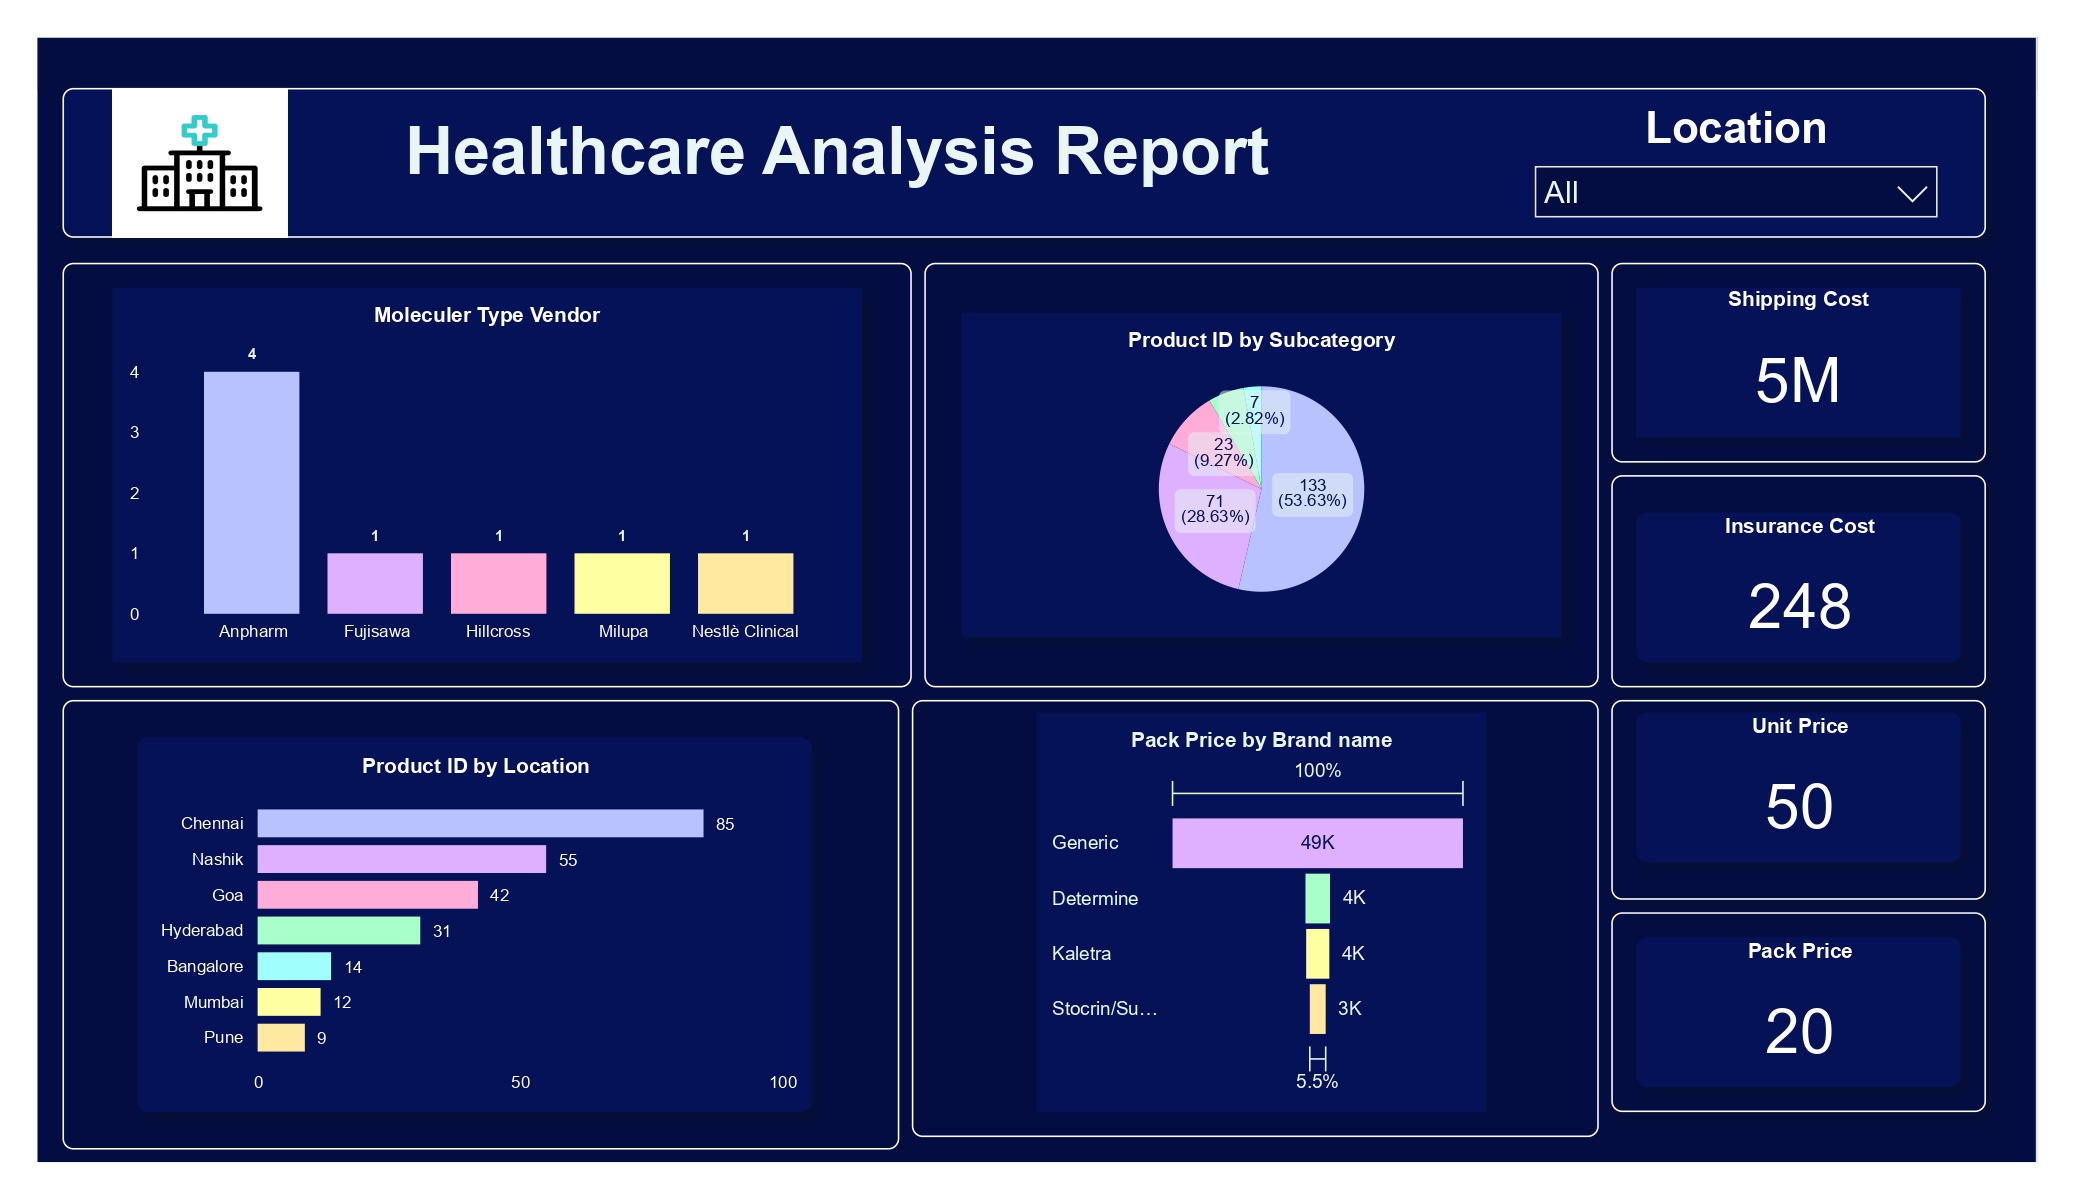

Layout of this report page (visuals, bound fields, positions):
{"tool":"powerbi","page":{"name":"Page 1","canvas":[1280,720],"ordinal":0},"visuals":[{"type":"shape","box":[16,32,1232,96],"z":0},{"type":"shape","box":[16,144,544,272],"z":1000},{"type":"shape","box":[16,424,536,288],"z":2000},{"type":"shape","box":[568,144,432,272],"z":3000},{"type":"shape","box":[560,424,440,280],"z":4000},{"type":"shape","box":[1008,144,240,128],"z":5000},{"type":"shape","box":[1008,280,240,136],"z":6000},{"type":"shape","box":[1008,560,240,128],"z":7000},{"type":"shape","box":[1008,424,240,128],"z":8000},{"type":"slicer","title":"Location","fields":{"Values":["Pharma_details.Manufacturer Location"]},"box":[944,32,288,96],"z":9000},{"type":"clusteredColumnChart","title":"Moleculer Type Vendor","fields":{"Category":["Pharma_details.Vendor"],"Y":["CountNonNull(Pharma_details.Molecule/Test Type)"]},"box":[48,160,480,240],"z":10000},{"type":"pieChart","title":"Product ID by Subcategory","fields":{"Category":["Pharma_details.Subcategory"],"Y":["CountNonNull(Pharma_details.Product ID)"]},"box":[592,176,384,208],"z":11000},{"type":"card","title":"Shipping Cost","fields":{"Values":["Sum(Pharma_details.Shipping Cost (USD))"]},"box":[1024,160,208,96],"z":12000},{"type":"card","title":"Insurance Cost","fields":{"Values":["CountNonNull(Pharma_details.Insurance Cost (USD))"]},"box":[1024,304,208,96],"z":13000},{"type":"card","title":"Unit Price ","fields":{"Values":["Count(Pharma_details.Unit Price)"]},"box":[1024,432,208,96],"z":14000},{"type":"card","title":"Pack Price","fields":{"Values":["Count(Pharma_details.Pack Unit)"]},"box":[1024,576,208,96],"z":15000},{"type":"barChart","title":"Product ID by Location","fields":{"Category":["Pharma_details.Manufacturer Location"],"Y":["CountNonNull(Pharma_details.Product ID)"]},"box":[64,448,432,240],"z":16000},{"type":"funnel","title":"Pack Price by Brand name","fields":{"Category":["Pharma_details.Brand name"],"Y":["Sum(Pharma_details.Pack Price)"]},"box":[640,432,288,256],"z":17000},{"type":"textbox","box":[96,48,832,64],"z":18000},{"type":"actionButton","box":[48,32,112,96],"z":19000}]}

Visuals, with their boxes on the page's 1280x720 design canvas (x1, y1, x2, y2). These are canvas units, not pixel positions in the 2075x1200 screenshot, which may show the page scaled, cropped or inside an application window:
shape: 16,32,1248,128
shape: 16,144,560,416
shape: 16,424,552,712
shape: 568,144,1000,416
shape: 560,424,1000,704
shape: 1008,144,1248,272
shape: 1008,280,1248,416
shape: 1008,560,1248,688
shape: 1008,424,1248,552
"Location" slicer: 944,32,1232,128
"Moleculer Type Vendor" clusteredColumnChart: 48,160,528,400
"Product ID by Subcategory" pieChart: 592,176,976,384
"Shipping Cost" card: 1024,160,1232,256
"Insurance Cost" card: 1024,304,1232,400
"Unit Price " card: 1024,432,1232,528
"Pack Price" card: 1024,576,1232,672
"Product ID by Location" barChart: 64,448,496,688
"Pack Price by Brand name" funnel: 640,432,928,688
textbox: 96,48,928,112
actionButton: 48,32,160,128
